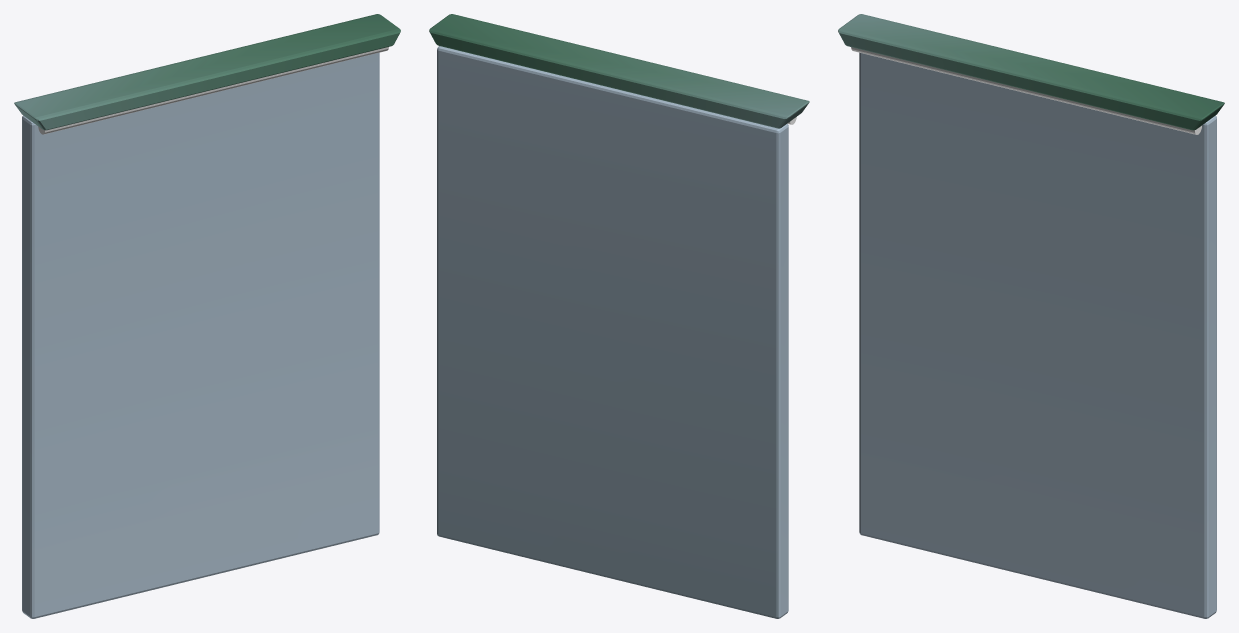
File: sp_mirror_bathroom_a.fbx
The picture shows the model from 3 angles, left to right: view 1: azimuth 30°, elevation 25°; view 2: azimuth 150°, elevation 25°; view 3: azimuth 330°, elevation 25°; orthographic projection.
Visible parts, largest first — view 1: sp_mirror_bathroom_a; view 2: sp_mirror_bathroom_a; view 3: sp_mirror_bathroom_a.
Boxes of the visible parts, x1,y1,x2,y2 form: sp_mirror_bathroom_a: [14, 14, 400, 618]; sp_mirror_bathroom_a: [429, 14, 809, 618]; sp_mirror_bathroom_a: [838, 14, 1224, 618].
Bounding box in the file's own units: 120 × 161 × 13.99.
